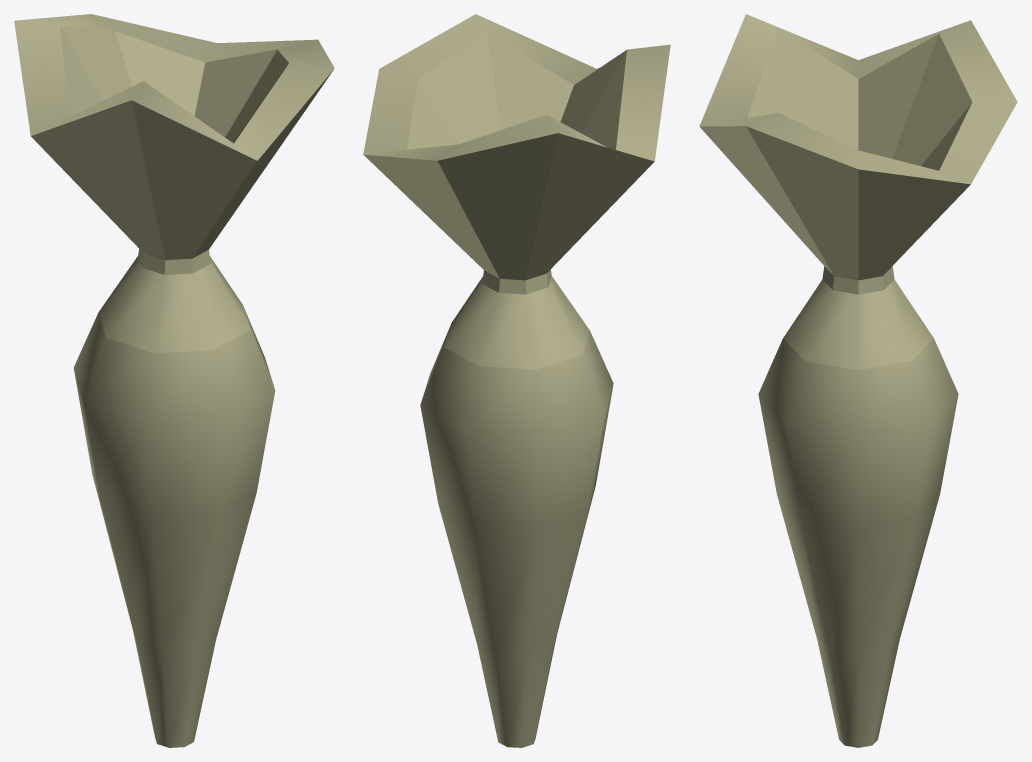
File: pudełka ekstraktu czekolady.fbx
3 renders of one model, left to right at view 1: azimuth 30°, elevation 25°; view 2: azimuth 150°, elevation 25°; view 3: azimuth 270°, elevation 25°, orthographic. The views are drawn at different scales.
Visible parts, largest first — view 1: Polewa do ciasta002; view 2: Polewa do ciasta002; view 3: Polewa do ciasta002.
Part boxes in pixels (box(x1,y1,x2,y2)): Polewa do ciasta002: box(14, 14, 334, 747); Polewa do ciasta002: box(363, 14, 670, 747); Polewa do ciasta002: box(699, 14, 1017, 747).
Bounding box in the file's own units: 8.92 × 20.97 × 8.92.
